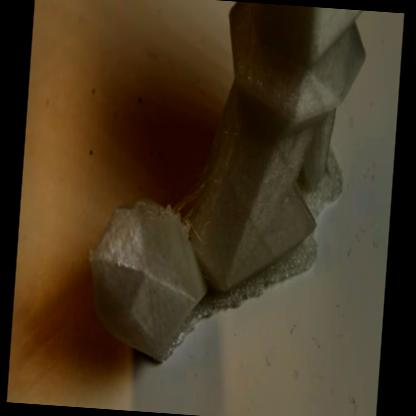fail: (165, 180, 209, 234)
